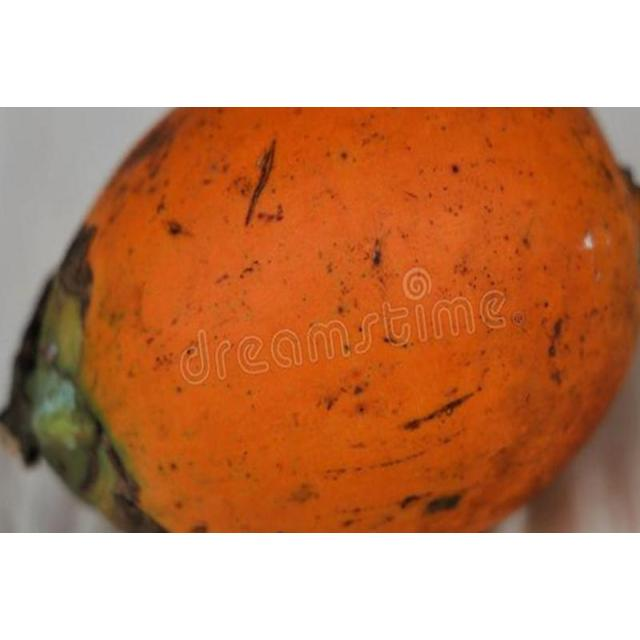good: (0, 107, 639, 533)
